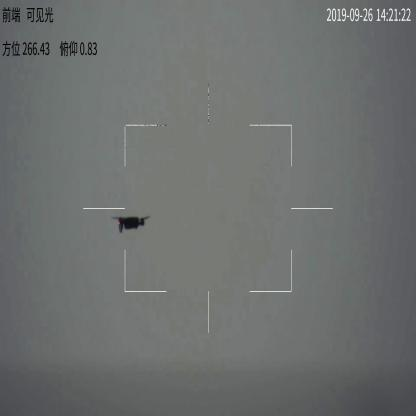uav: (111, 210, 153, 234)
